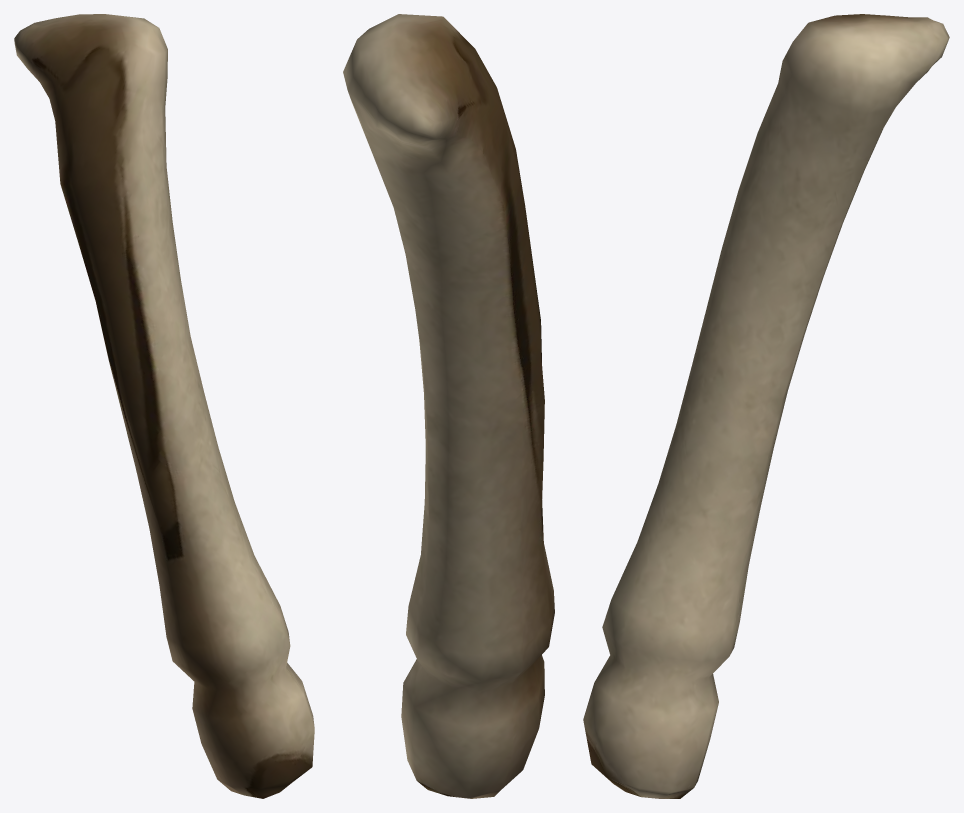
Rendered from Metatarsal_V.glb.
3 renders of one model, left to right at view 1: azimuth 30°, elevation 25°; view 2: azimuth 150°, elevation 25°; view 3: azimuth 270°, elevation 25°, orthographic. The views are drawn at different scales.
Visible parts, largest first — view 1: Metatarsal_V_Left1:Group28665; view 2: Metatarsal_V_Left1:Group28665; view 3: Metatarsal_V_Left1:Group28665.
Part boxes in pixels (bbox=[...]): Metatarsal_V_Left1:Group28665: bbox=[14, 14, 314, 798]; Metatarsal_V_Left1:Group28665: bbox=[343, 14, 554, 798]; Metatarsal_V_Left1:Group28665: bbox=[583, 14, 949, 798].
Size of the model in its own units: 12.39 by 51.77 by 23.
1 material, 1 textured.
